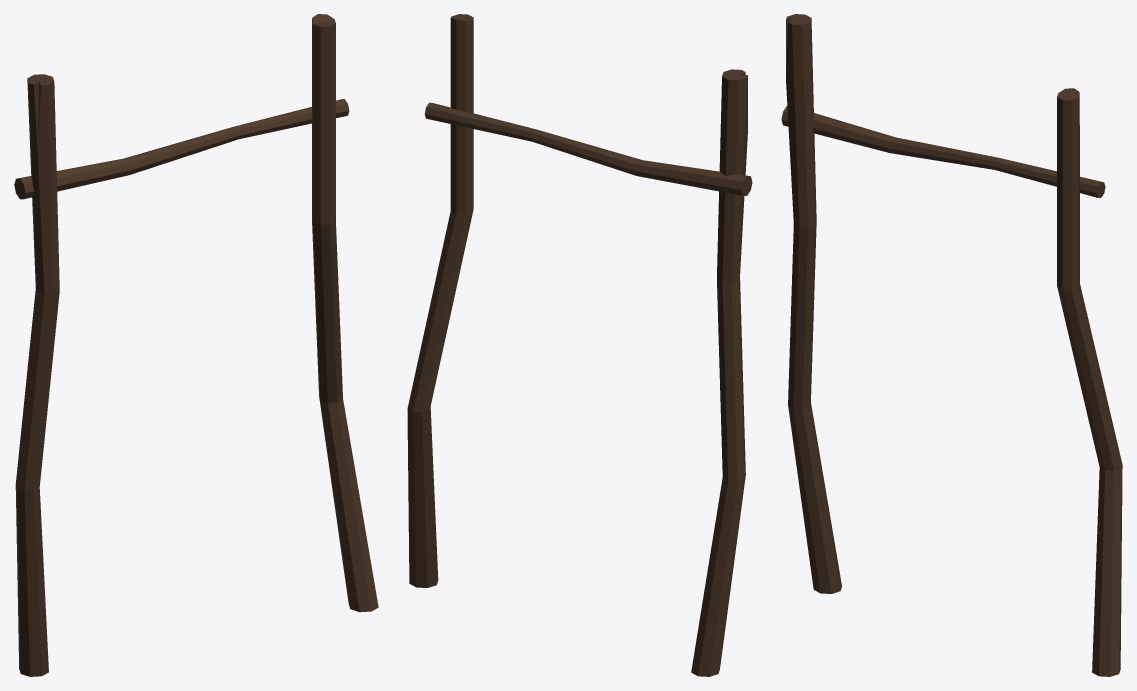
File: Wooden_Bridge_Pillar.fbx
3 renders of one model, left to right at view 1: azimuth 30°, elevation 25°; view 2: azimuth 150°, elevation 25°; view 3: azimuth 330°, elevation 25°, orthographic. The views are drawn at different scales.
Visible parts, largest first — view 1: Wooden_Bridge_Pillar; view 2: Wooden_Bridge_Pillar; view 3: Wooden_Bridge_Pillar.
Boxes of the visible parts, <box> form: Wooden_Bridge_Pillar: <box>14,14,378,676</box>; Wooden_Bridge_Pillar: <box>407,14,752,676</box>; Wooden_Bridge_Pillar: <box>781,14,1122,676</box>.
Bounding box in the file's own units: 94.31 × 155 × 15.82.
